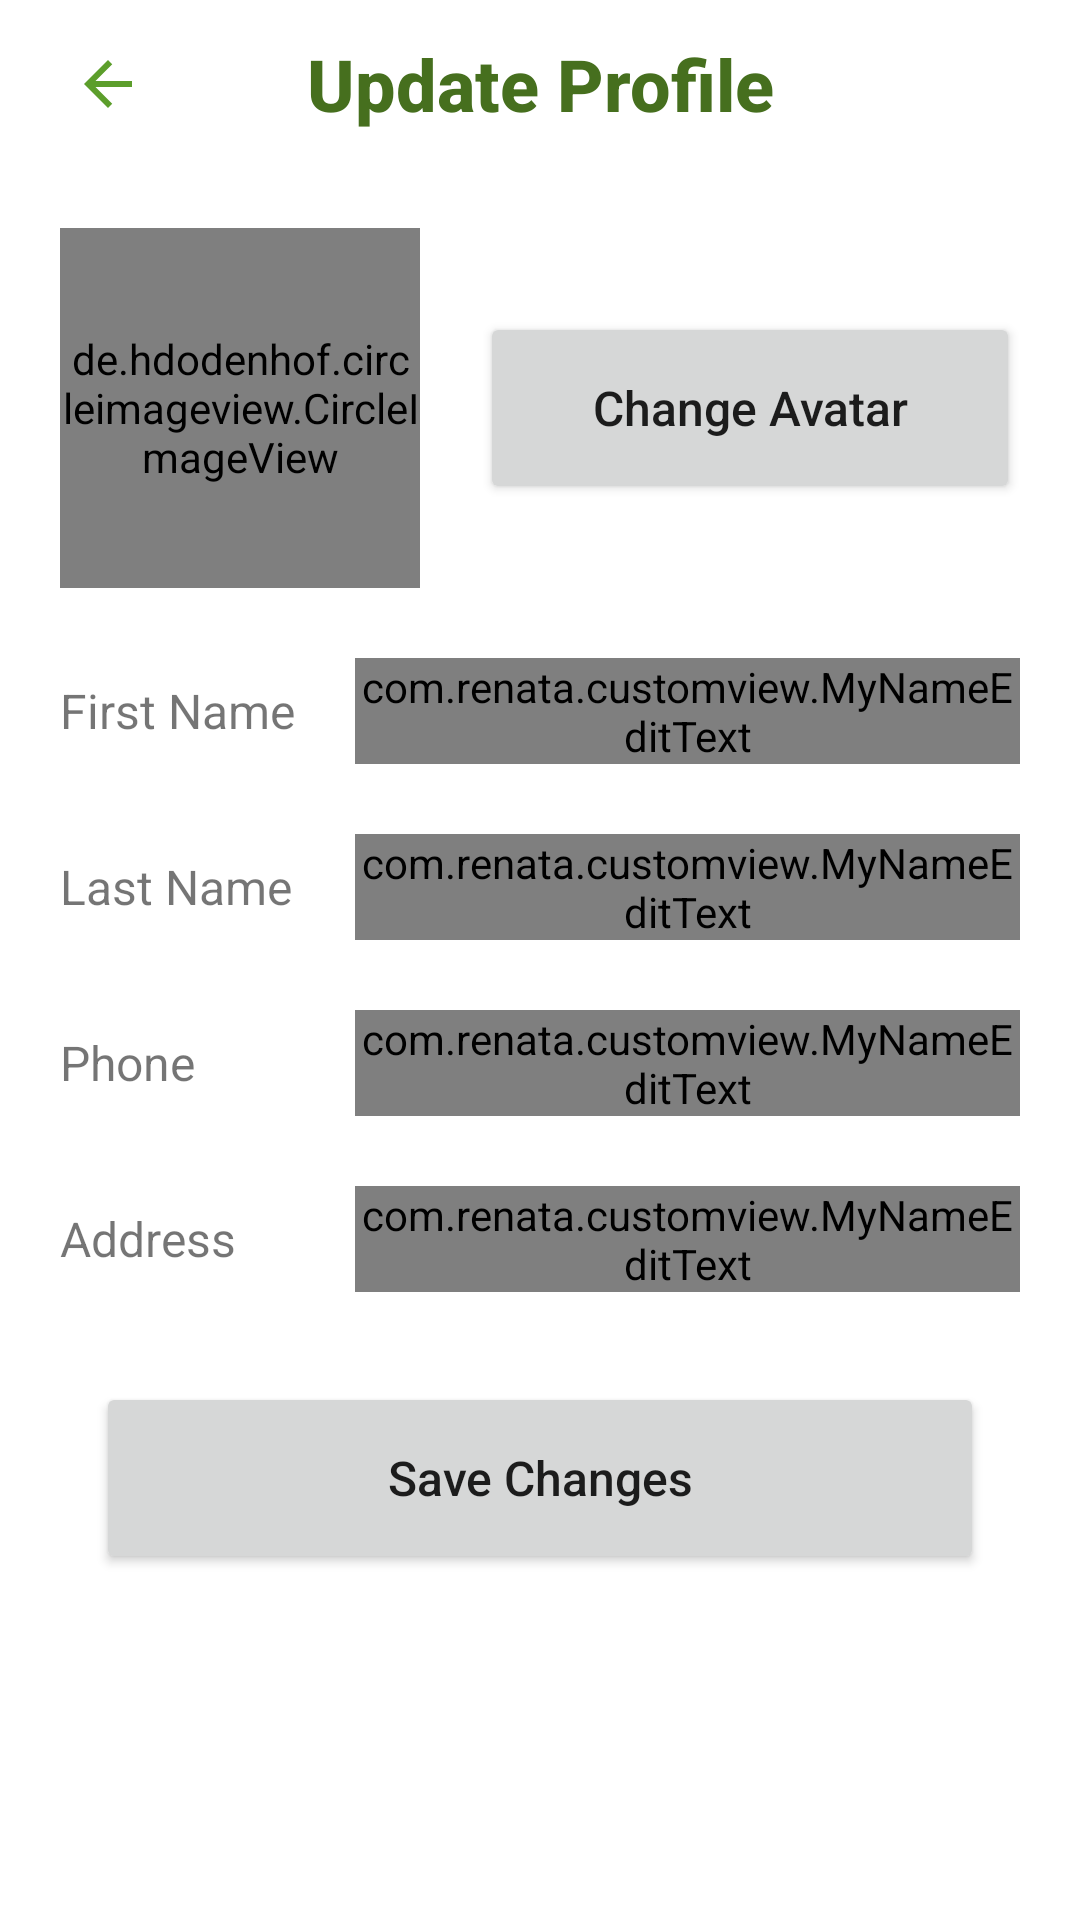

Locate icon controls on the screen. Image size 1080w x 1920h, boxes as (x1, y1, x2, y2).
back: (84, 60, 132, 108)
